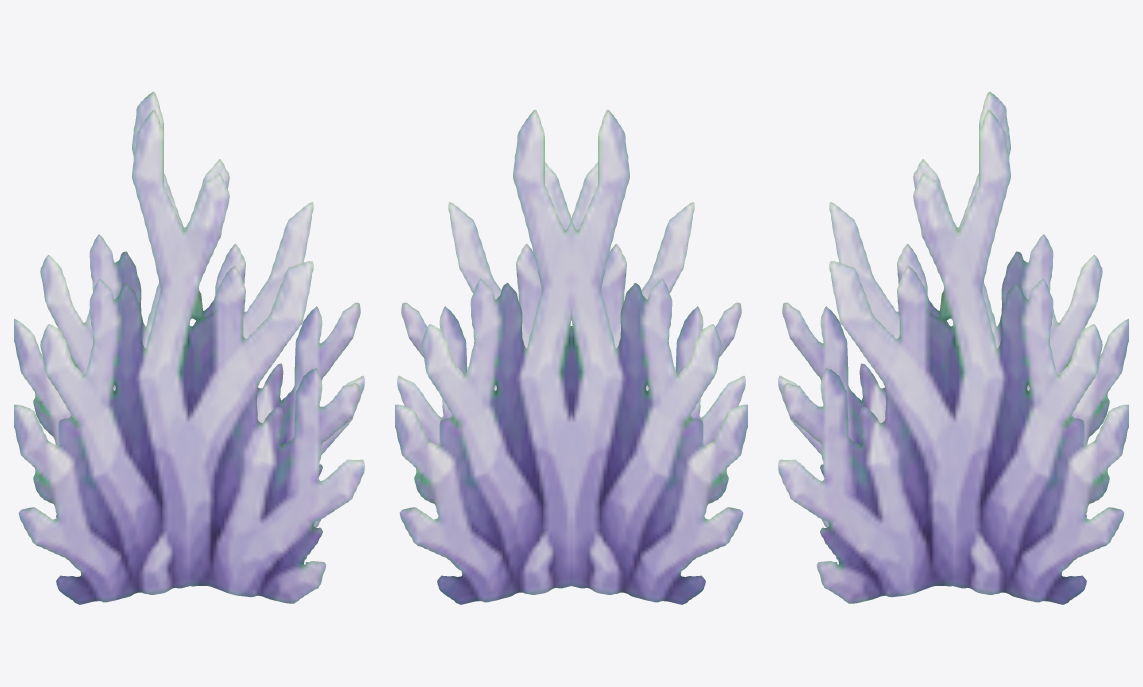
The model's file is h_abimes_touffe.glb.
3 renders of one model, left to right at view 1: azimuth 30°, elevation 25°; view 2: azimuth 150°, elevation 25°; view 3: azimuth 270°, elevation 25°, orthographic.
Parts seen in each view (by area): view 1: h_abimes_touffe; view 2: h_abimes_touffe; view 3: h_abimes_touffe.
Part boxes in pixels (<box>): h_abimes_touffe: <box>14,91,364,604</box>; h_abimes_touffe: <box>395,109,747,604</box>; h_abimes_touffe: <box>778,91,1128,604</box>.
Bounding box in the file's own units: 0.2427 × 0.32 × 0.2102.
1 material, 1 textured.
